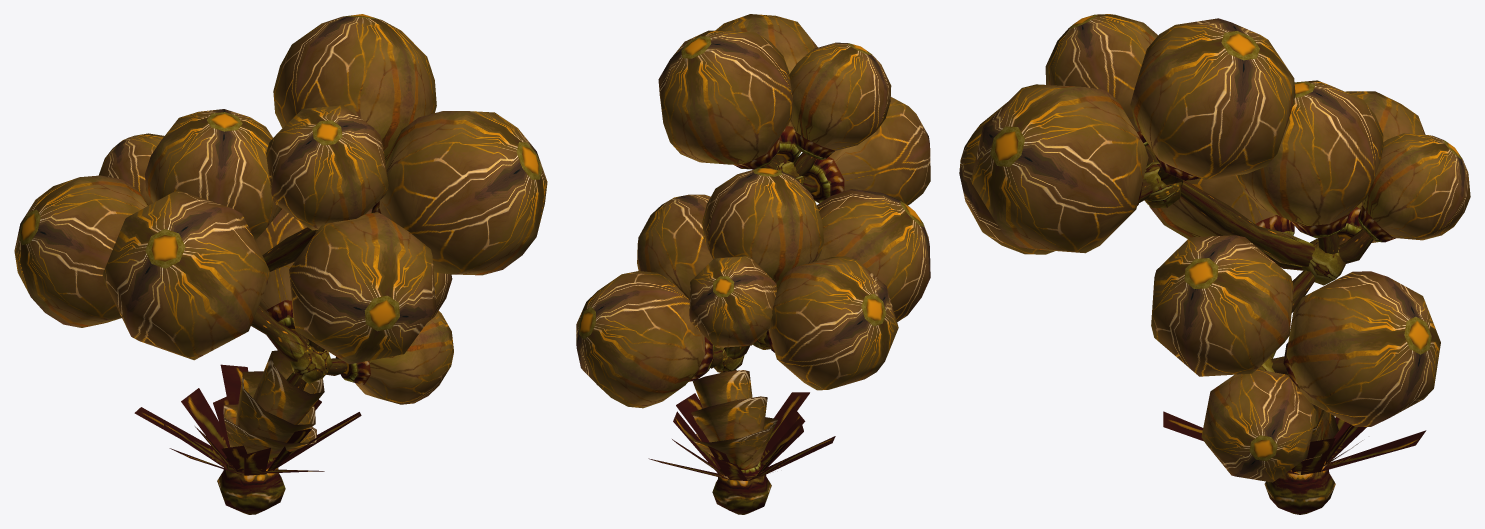
Rendered from Bug_cargo_01_b.fbx.
3 renders of one model, left to right at view 1: azimuth 30°, elevation 25°; view 2: azimuth 150°, elevation 25°; view 3: azimuth 270°, elevation 25°, orthographic. The views are drawn at different scales.
Visible parts, largest first — view 1: Bug_cargo_01_b; view 2: Bug_cargo_01_b; view 3: Bug_cargo_01_b.
Part boxes in pixels (bbox=[...]): Bug_cargo_01_b: bbox=[14, 14, 547, 514]; Bug_cargo_01_b: bbox=[576, 14, 930, 514]; Bug_cargo_01_b: bbox=[959, 14, 1470, 514].
Bounding box in the file's own units: 5.65 × 7.27 × 6.52.
